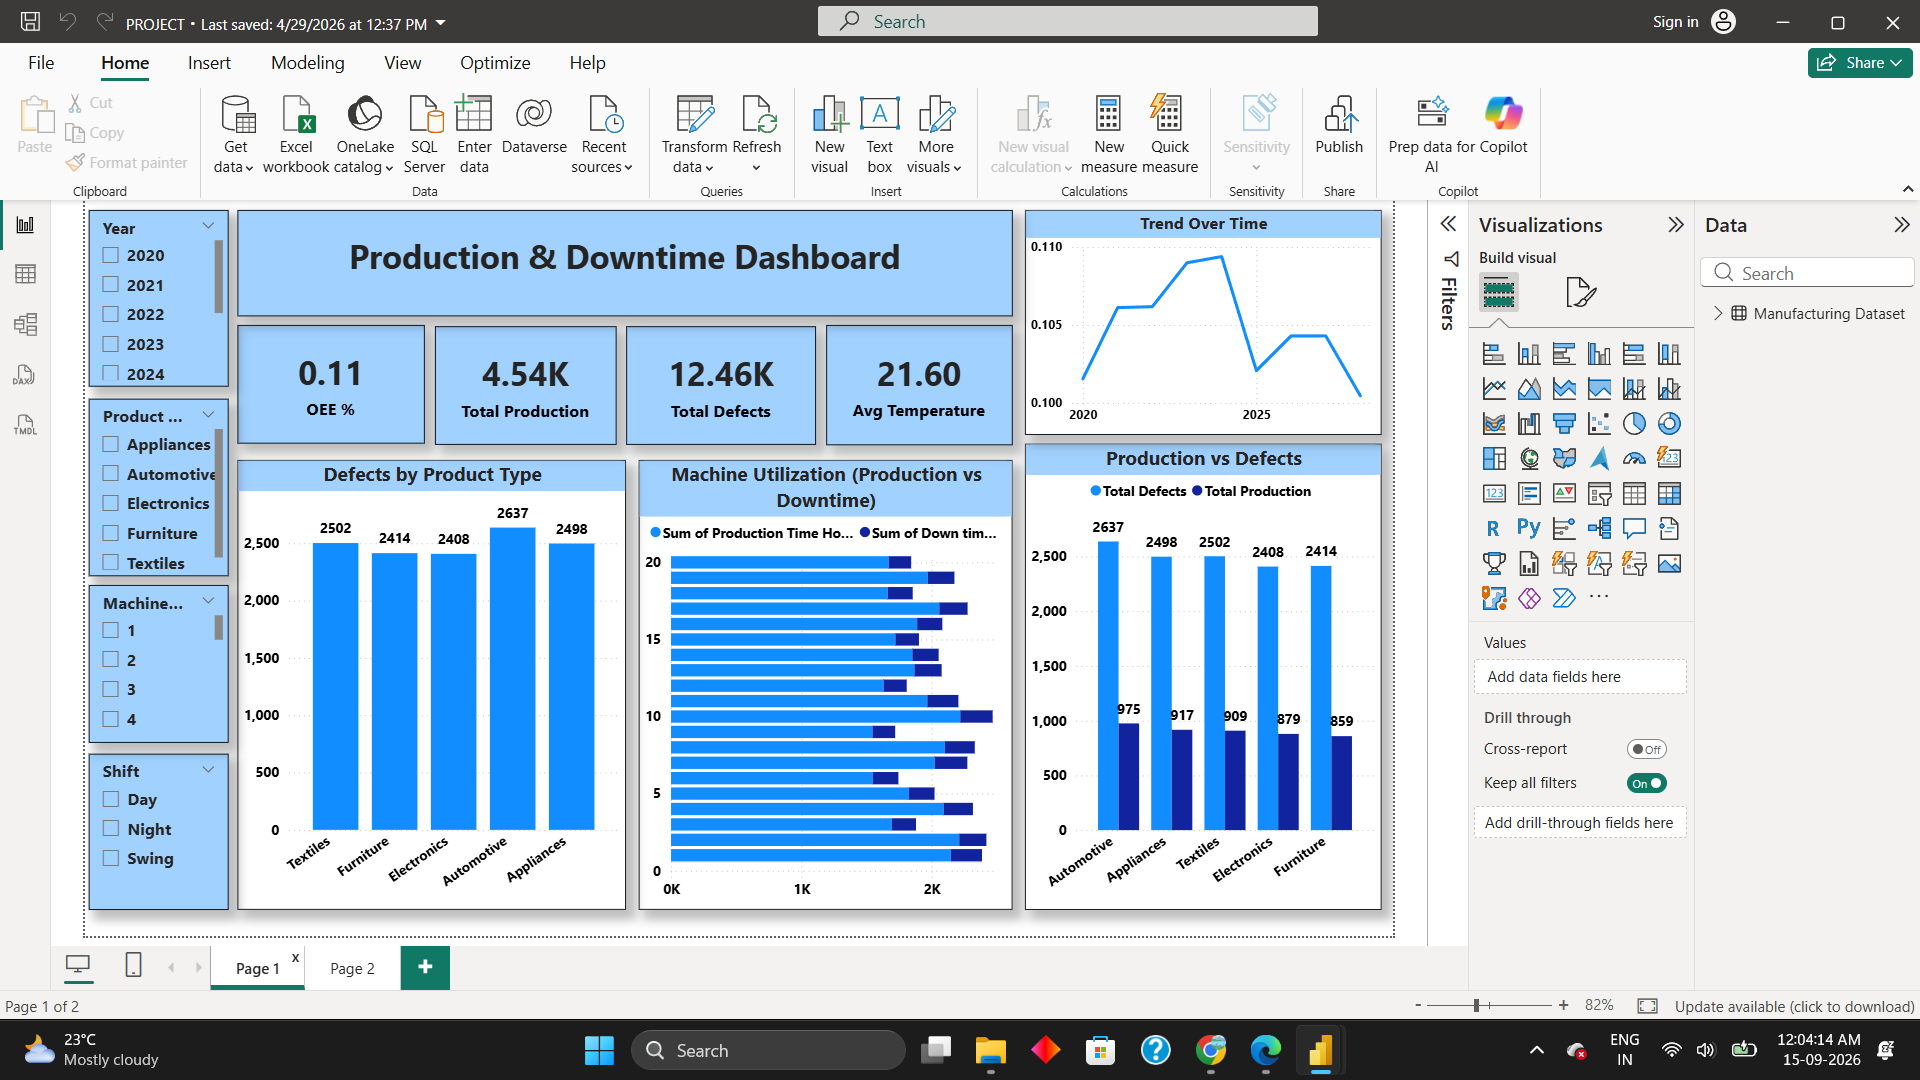

The page's visual inventory and layout, read from the dashboard file:
{"tool":"powerbi","page":{"name":"Page 1","canvas":[1280,720],"ordinal":0},"visuals":[{"type":"barChart","title":"Machine Utilization (Production vs Downtime)","fields":{"Category":["Manufacturing Dataset.Machine ID"],"Y":["Sum(Manufacturing Dataset.Production Time Hours)","Sum(Manufacturing Dataset.Down time Hours)"]},"box":[541.7,254.3,365.6,440.2],"z":0},{"type":"clusteredColumnChart","title":"Defects by Product Type","fields":{"Category":["Manufacturing Dataset.Product Type"],"Y":["Sum(Manufacturing Dataset.Defects)"]},"box":[149.2,254.3,380.3,440.2],"z":1000},{"type":"card","fields":{"Values":["Manufacturing Dataset.OEE %"]},"box":[149.2,122.3,183.4,116.2],"z":2000},{"type":"card","fields":{"Values":["Manufacturing Dataset.Total Production"]},"box":[342.4,123.5,177.3,116.2],"z":3000},{"type":"card","fields":{"Values":["Manufacturing Dataset.Total Defects"]},"box":[529.5,123.5,185.9,116.2],"z":4000},{"type":"card","fields":{"Values":["Manufacturing Dataset.Avg Temperature"]},"box":[725.1,122.3,182.2,117.4],"z":5000},{"type":"clusteredColumnChart","title":"Production vs Defects","fields":{"Category":["Manufacturing Dataset.Product Type"],"Y":["Manufacturing Dataset.Total Defects","Manufacturing Dataset.Total Production"]},"box":[919.6,238.5,348.5,456.1],"z":6000},{"type":"lineChart","title":" Trend Over Time","fields":{"Category":["Manufacturing Dataset.Date.Variation.Date Hierarchy.Year","Manufacturing Dataset.Date.Variation.Date Hierarchy.Month"],"Y":["Manufacturing Dataset.OEE %"]},"box":[919.6,9.8,348.5,220.1],"z":7000},{"type":"slicer","fields":{"Values":["Manufacturing Dataset.Date.Variation.Date Hierarchy.Year"]},"box":[3.7,9.8,137,172.4],"z":8000},{"type":"slicer","fields":{"Values":["Manufacturing Dataset.Shift"]},"box":[3.7,541.7,137,152.9],"z":9000},{"type":"slicer","fields":{"Values":["Manufacturing Dataset.Product Type"]},"box":[3.7,194.4,137,173.6],"z":10000},{"type":"slicer","fields":{"Values":["Manufacturing Dataset.Machine ID"]},"box":[3.7,376.6,137,154.1],"z":11000},{"type":"textbox","box":[149.2,9.8,758.2,103.9],"z":12000}]}

Visuals, with their boxes on the page's 1280x720 design canvas (x1, y1, x2, y2). These are canvas units, not pixel positions in the 1920x1080 screenshot, which may show the page scaled, cropped or inside an application window:
"Machine Utilization (Production vs Downtime)" barChart: region(542, 254, 907, 694)
"Defects by Product Type" clusteredColumnChart: region(149, 254, 530, 694)
card - Manufacturing Dataset.OEE %: region(149, 122, 333, 238)
card - Manufacturing Dataset.Total Production: region(342, 124, 520, 240)
card - Manufacturing Dataset.Total Defects: region(530, 124, 715, 240)
card - Manufacturing Dataset.Avg Temperature: region(725, 122, 907, 240)
"Production vs Defects" clusteredColumnChart: region(920, 238, 1268, 695)
" Trend Over Time" lineChart: region(920, 10, 1268, 230)
slicer - Manufacturing Dataset.Date.Variation.Date Hierarchy.Year: region(4, 10, 141, 182)
slicer - Manufacturing Dataset.Shift: region(4, 542, 141, 695)
slicer - Manufacturing Dataset.Product Type: region(4, 194, 141, 368)
slicer - Manufacturing Dataset.Machine ID: region(4, 377, 141, 531)
textbox: region(149, 10, 907, 114)
